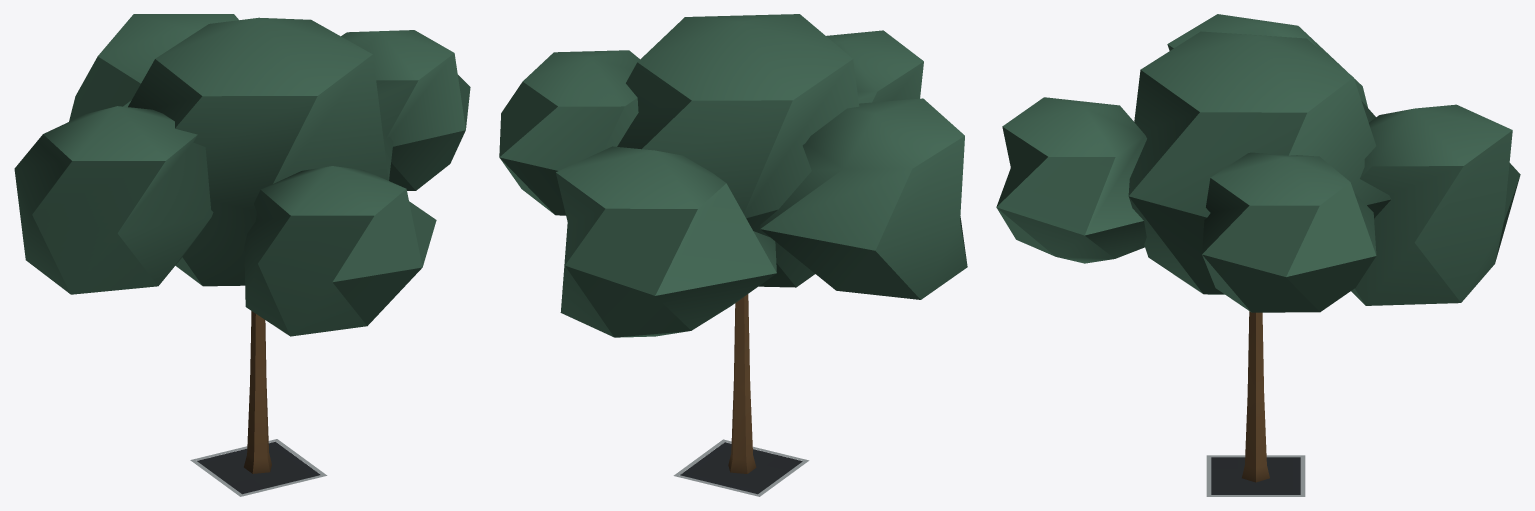
The model's file is tree-round.lod2.glb.
3 renders of one model, left to right at view 1: azimuth 30°, elevation 25°; view 2: azimuth 150°, elevation 25°; view 3: azimuth 270°, elevation 25°, orthographic. The views are drawn at different scales.
Parts seen in each view (by area): view 1: structure; view 2: structure; view 3: structure.
Boxes of the visible parts, x1,y1,x2,y2 form: structure: (14,14,470,496); structure: (499,14,967,496); structure: (996,14,1520,496).
Size of the model in its own units: 8.79 by 8.4 by 9.04.
